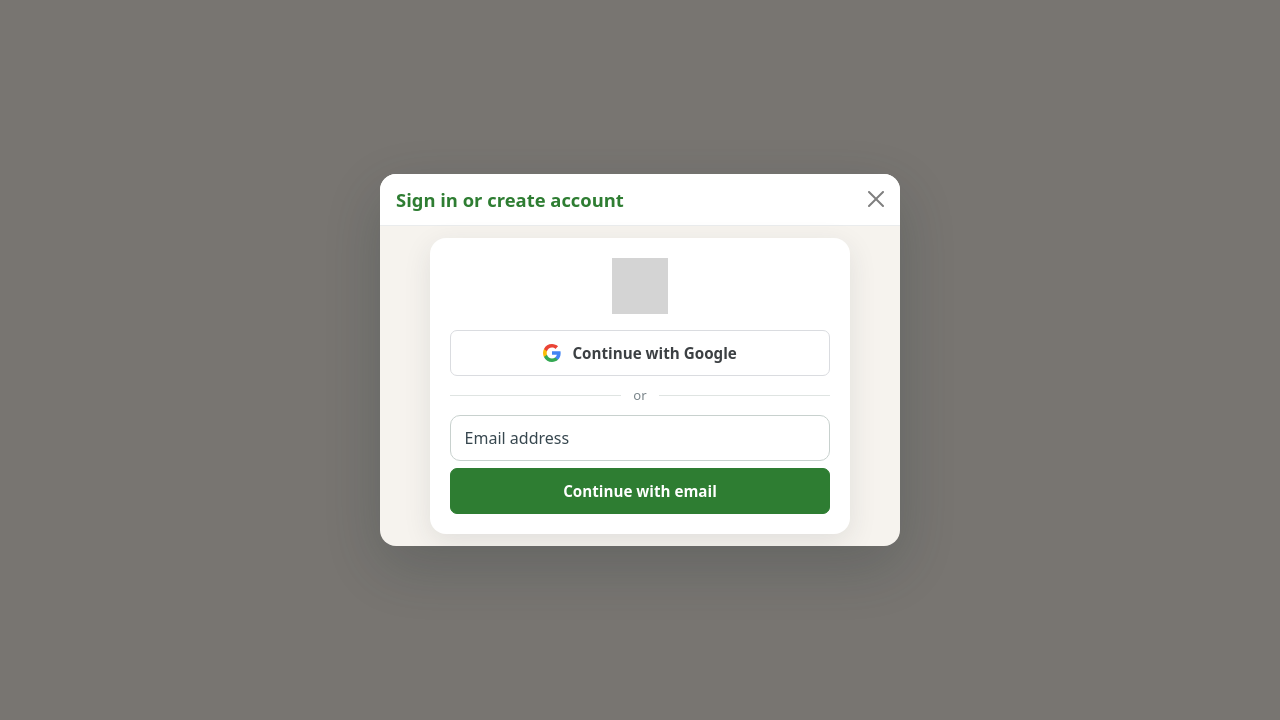
Test: AuthModal › advances a definitive unknown email response to account creation
Type "miriam@example.com" into the field labelled "Email address".
click(640, 438); type("miriam@example.com")  # box [451,416,829,460]
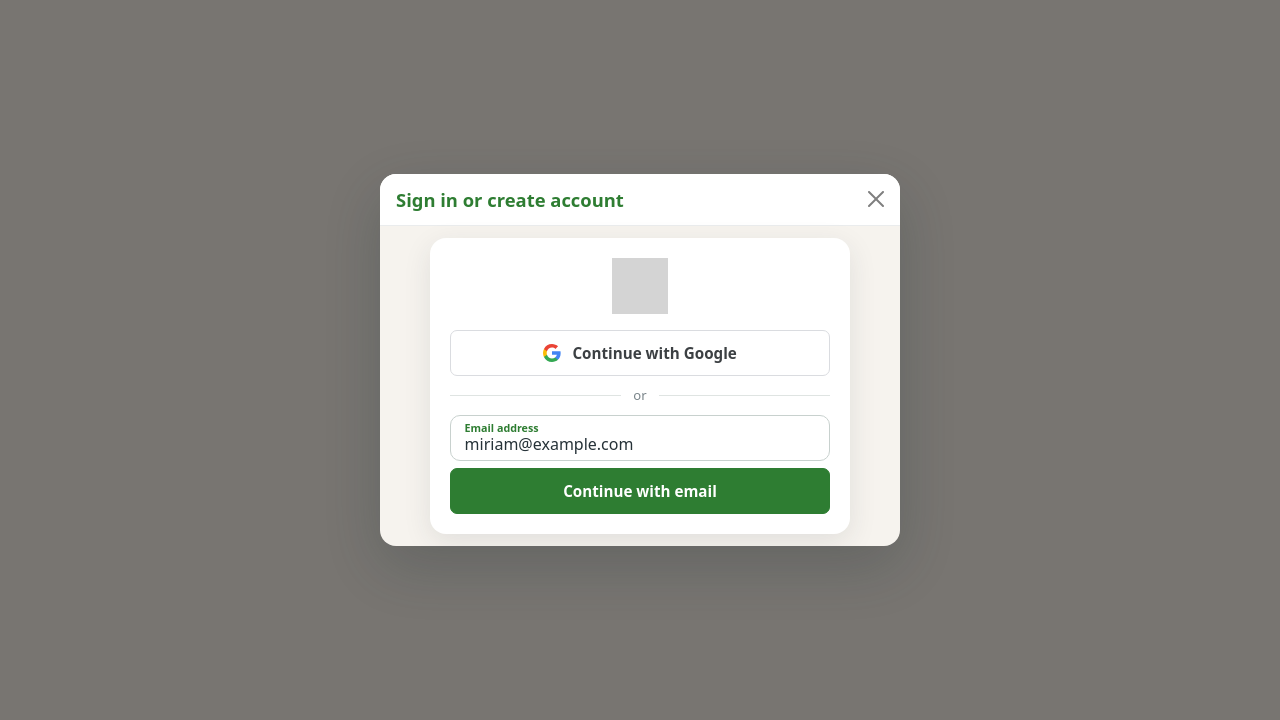
Click the button "Continue with email".
click(640, 491)  # box [450,468,830,514]
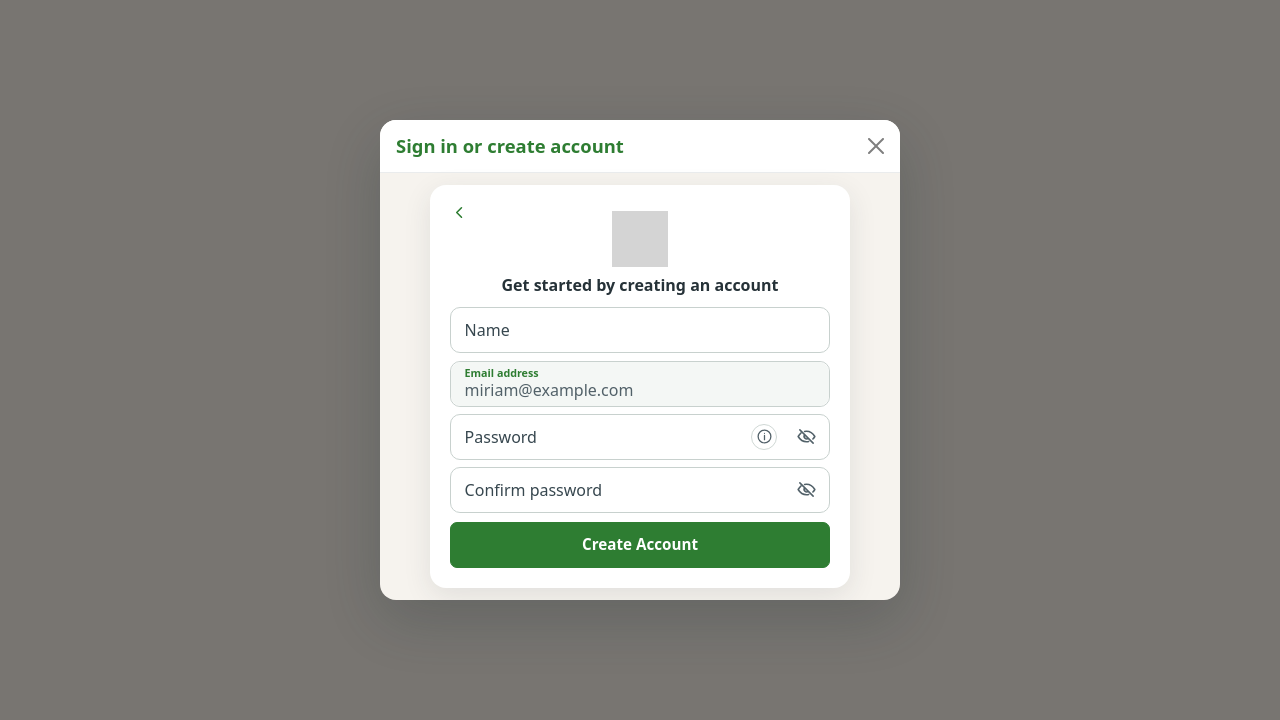
Check: the heading "Get started by creating an account" is shown, box [502,274,778,296]
